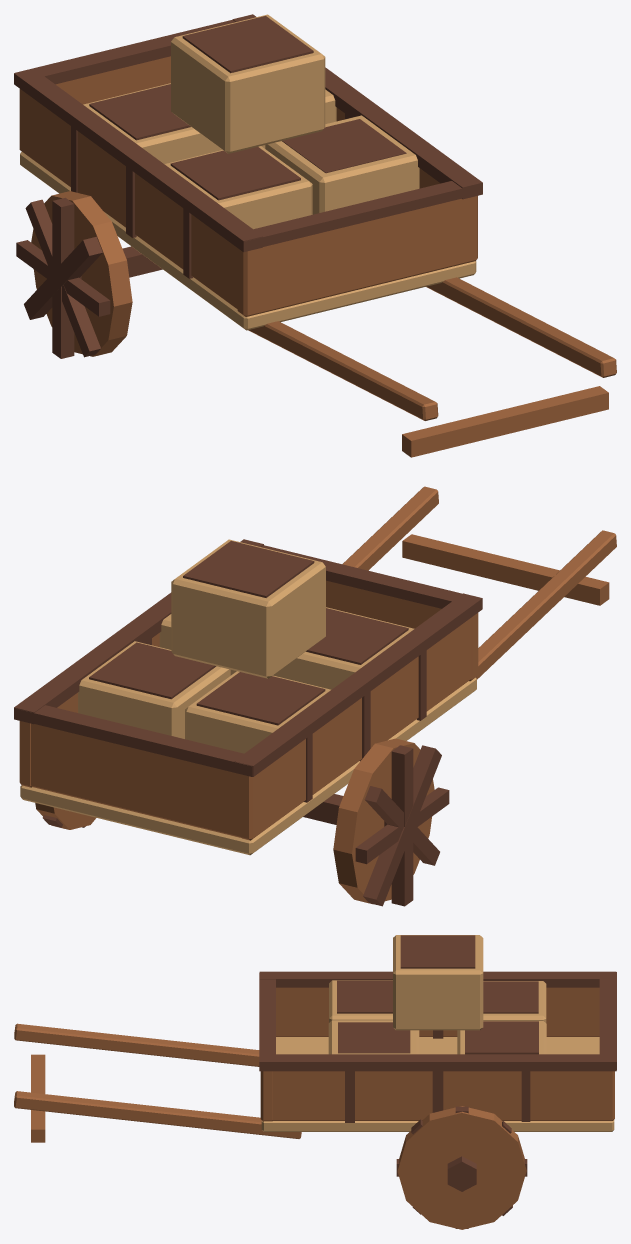
File: Cart_Crates.fbx
3 views of the same model, one above another, from view 1: azimuth 30°, elevation 25°; view 2: azimuth 150°, elevation 25°; view 3: azimuth 270°, elevation 25° (orthographic). The views are drawn at different scales.
Parts seen in each view (by area): view 1: Cart_Crates; view 2: Cart_Crates; view 3: Cart_Crates.
Part boxes in pixels (left/top/right/bottom): Cart_Crates: left=14, top=14, right=616, bottom=457; Cart_Crates: left=14, top=486, right=616, bottom=906; Cart_Crates: left=14, top=935, right=616, bottom=1229.
Size of the model in its own units: 1.97 by 1.51 by 3.77.
